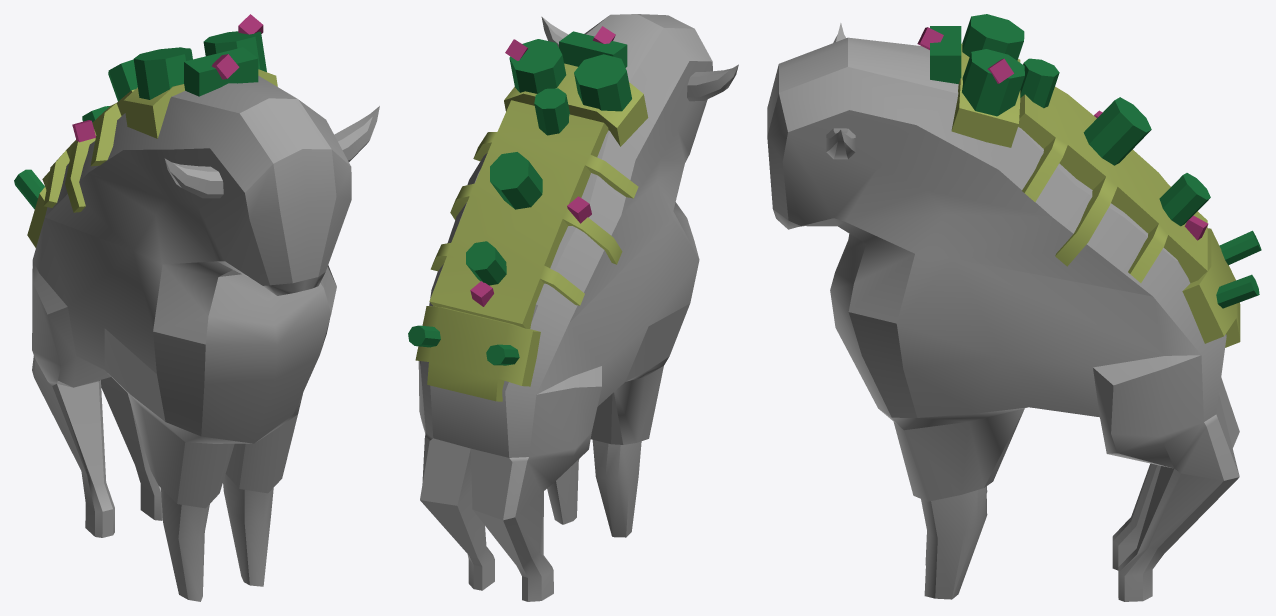
The model's file is nomad_asset_mark_v10.fbx.
3 views of the same model, side by side, from view 1: azimuth 30°, elevation 25°; view 2: azimuth 150°, elevation 25°; view 3: azimuth 270°, elevation 25° (orthographic). The views are drawn at different scales.
Parts seen in each view (by area): view 1: buff_body, climbable_l_back, buff_horns, climable_t_shoulder_r, climable_t_neck, climable_l_neck, climable_t_shoulder_l, climbable_t_back_mid, climable_t_rear_r, climable_l_rear; view 2: buff_body, climbable_l_back, climable_l_rear, climable_l_neck, climable_t_shoulder_r, climable_t_shoulder_l, climbable_t_back_mid, buff_horns, climable_t_neck, climbable_t_back_upper, climable_t_back_lower, climable_t_rear_l (+1 smaller); view 3: buff_body, climbable_l_back, climable_l_rear, climable_t_shoulder_l, climbable_t_back_mid, climable_l_neck, climable_t_shoulder_r, climable_t_neck, climable_t_back_lower, climbable_t_back_upper, buff_horns, climable_t_rear_l (+1 smaller).
Boxes of the visible parts, bbox=[...] form: buff_body: bbox=[32, 75, 351, 601]; climbable_l_back: bbox=[42, 89, 134, 212]; buff_horns: bbox=[164, 106, 379, 198]; climable_t_shoulder_r: bbox=[133, 47, 192, 99]; climable_t_neck: bbox=[184, 47, 258, 96]; climable_l_neck: bbox=[123, 69, 277, 138]; climable_t_shoulder_l: bbox=[203, 31, 266, 71]; climbable_t_back_mid: bbox=[108, 59, 137, 101]; climable_t_rear_r: bbox=[14, 169, 44, 209]; climable_l_rear: bbox=[27, 187, 47, 247]; buff_body: bbox=[418, 14, 712, 601]; climbable_l_back: bbox=[429, 100, 638, 328]; climable_l_rear: bbox=[415, 306, 540, 401]; climable_l_neck: bbox=[504, 63, 648, 146]; climable_t_shoulder_r: bbox=[574, 54, 631, 111]; climable_t_shoulder_l: bbox=[509, 39, 566, 93]; climbable_t_back_mid: bbox=[490, 152, 542, 209]; buff_horns: bbox=[541, 16, 738, 101]; climable_t_neck: bbox=[559, 31, 627, 67]; climbable_t_back_upper: bbox=[534, 88, 569, 135]; climable_t_back_lower: bbox=[466, 241, 506, 285]; climable_t_rear_l: bbox=[408, 325, 440, 347]; buff_body: bbox=[767, 37, 1239, 601]; climbable_l_back: bbox=[1018, 86, 1207, 283]; climable_l_rear: bbox=[1182, 228, 1240, 347]; climable_t_shoulder_l: bbox=[962, 49, 1024, 116]; climbable_t_back_mid: bbox=[1083, 97, 1151, 165]; climable_l_neck: bbox=[951, 43, 1020, 147]; climable_t_shoulder_r: bbox=[962, 14, 1024, 60]; climable_t_neck: bbox=[930, 26, 961, 83]; climable_t_back_lower: bbox=[1159, 173, 1210, 226]; climbable_t_back_upper: bbox=[1020, 58, 1059, 108]; buff_horns: bbox=[826, 23, 855, 159]; climable_t_rear_l: bbox=[1216, 274, 1259, 308].
Bounding box in the file's own units: 1214 × 2917 × 2360.
